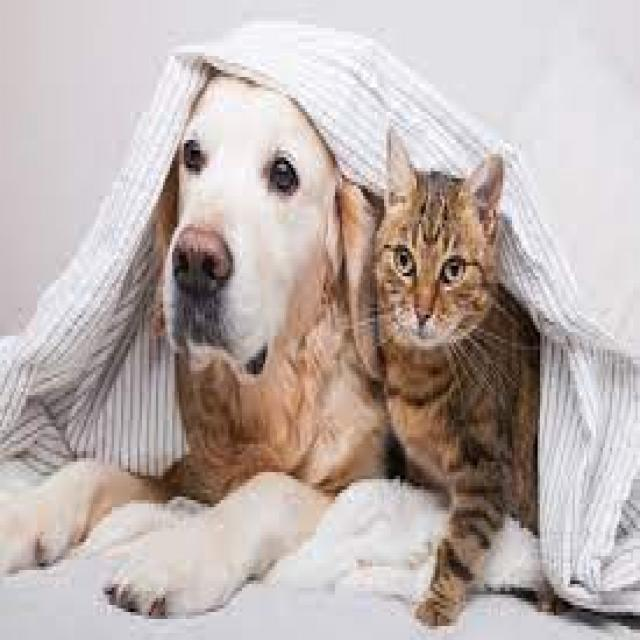cat: (366, 117, 550, 633)
dog: (5, 41, 377, 634)
